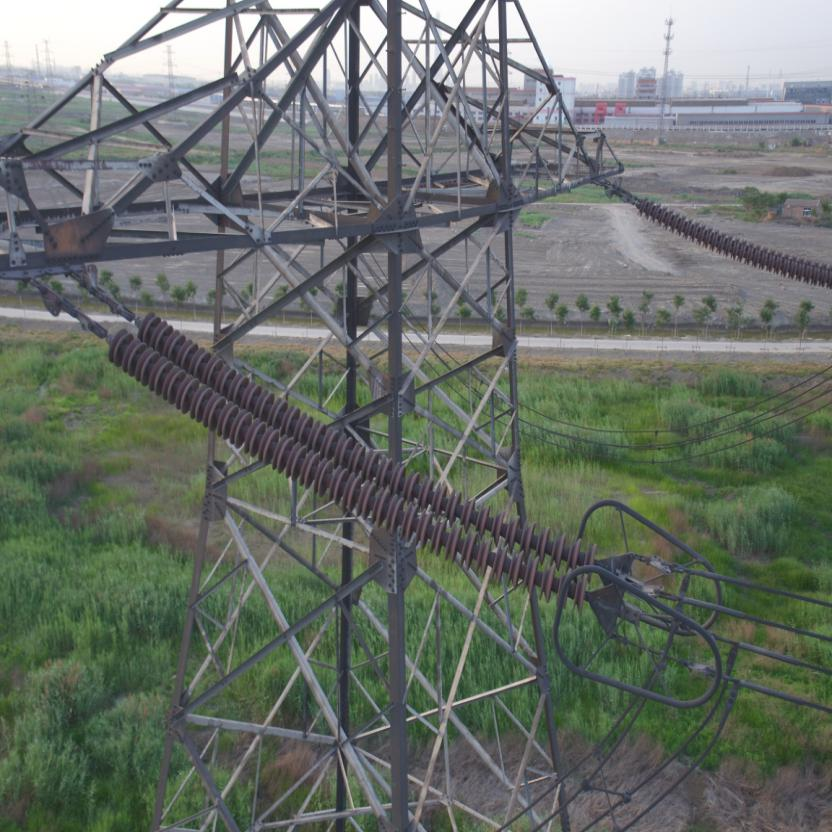insulator: (76, 300, 608, 616), (620, 186, 830, 291)
